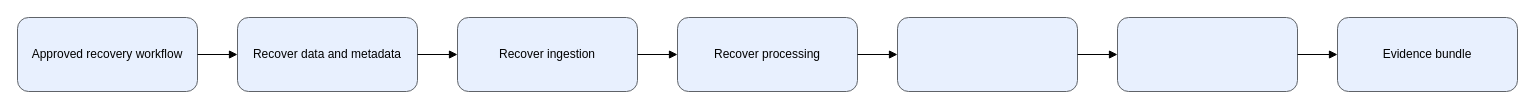
Some shapes in this 1535 by 109 pixel diagram are drawn without their labels. The shapes that lost their labels are listed below. From the top down, each one's box as (x1, y1, x2, y2) in pixels, then its label:
(896, 16, 1078, 92): Recover analytics and AI consumption
(1116, 16, 1298, 92): Release traffic and publish status
